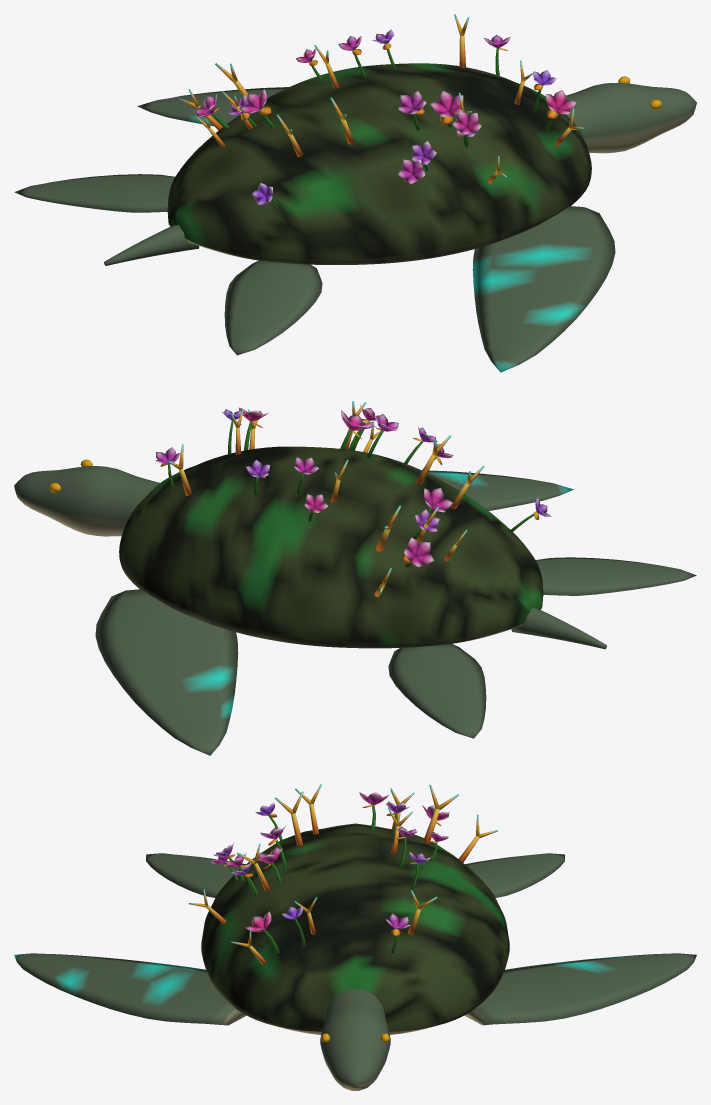
The model's file is desma_orquidea.fbx.
3 renders of one model, top to bottom at view 1: azimuth 30°, elevation 25°; view 2: azimuth 150°, elevation 25°; view 3: azimuth 270°, elevation 25°, orthographic. The views are drawn at different scales.
Visible parts, largest first — view 1: desma_orquidea; view 2: desma_orquidea; view 3: desma_orquidea.
Part boxes in pixels (x1=…): desma_orquidea: x1=14, y1=14, x2=696, y2=372; desma_orquidea: x1=14, y1=401, x2=696, y2=755; desma_orquidea: x1=14, y1=784, x2=696, y2=1090.
Size of the model in its own units: 300 by 319 by 82.48.
